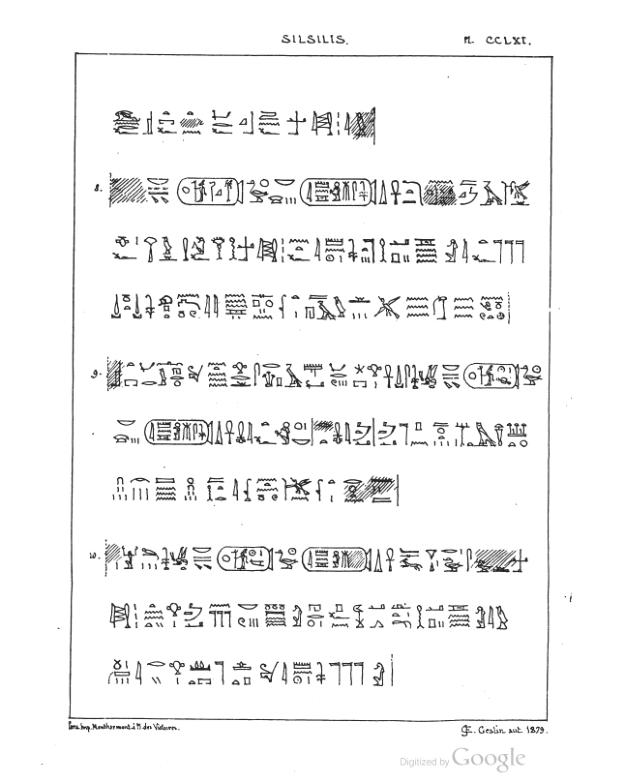circle: (174, 172, 249, 208), (299, 543, 373, 577), (299, 174, 377, 206), (141, 416, 216, 447), (460, 359, 521, 396), (214, 541, 277, 576)
